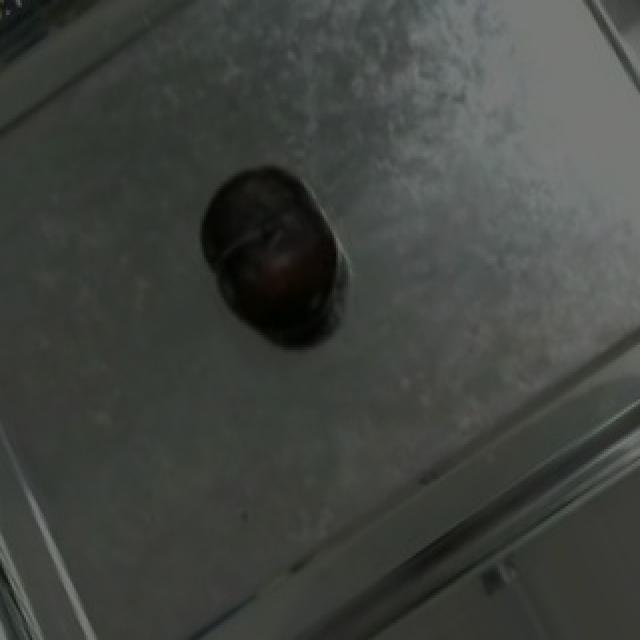Fruit: (184, 149, 358, 347)
